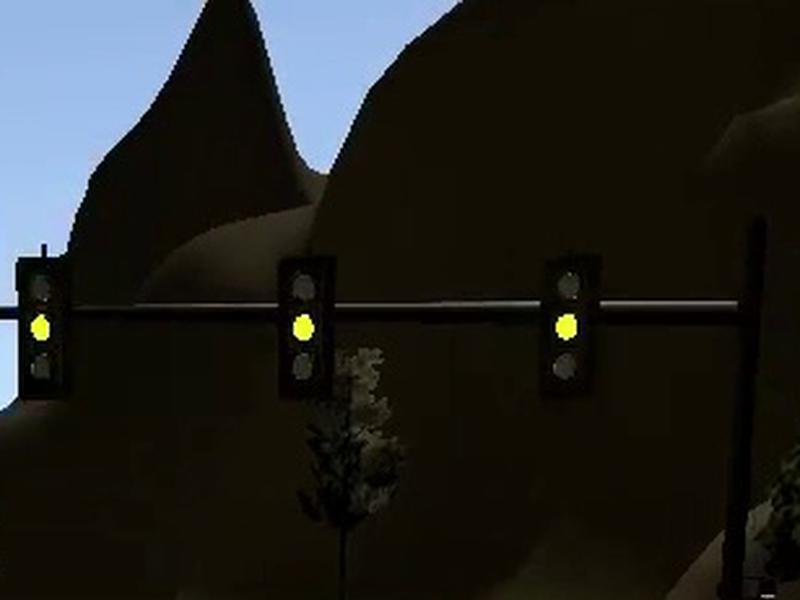Yellow: (539, 250, 597, 401), (278, 255, 338, 400), (15, 257, 70, 399)
